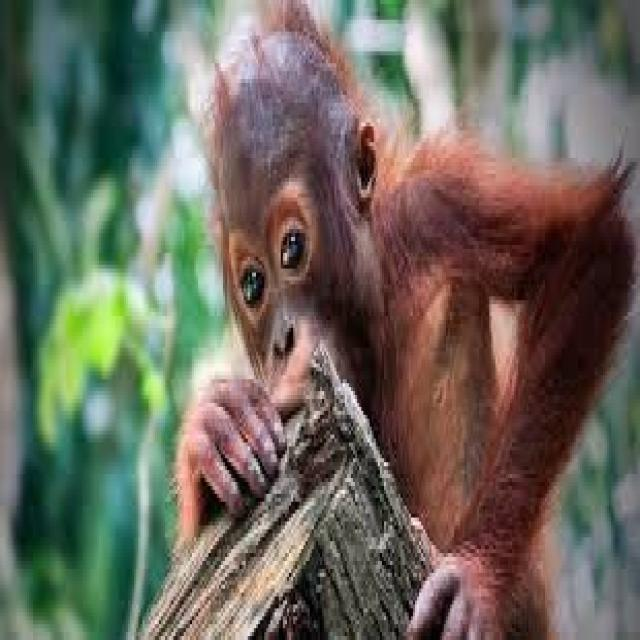Orangutan: (182, 43, 621, 640)
